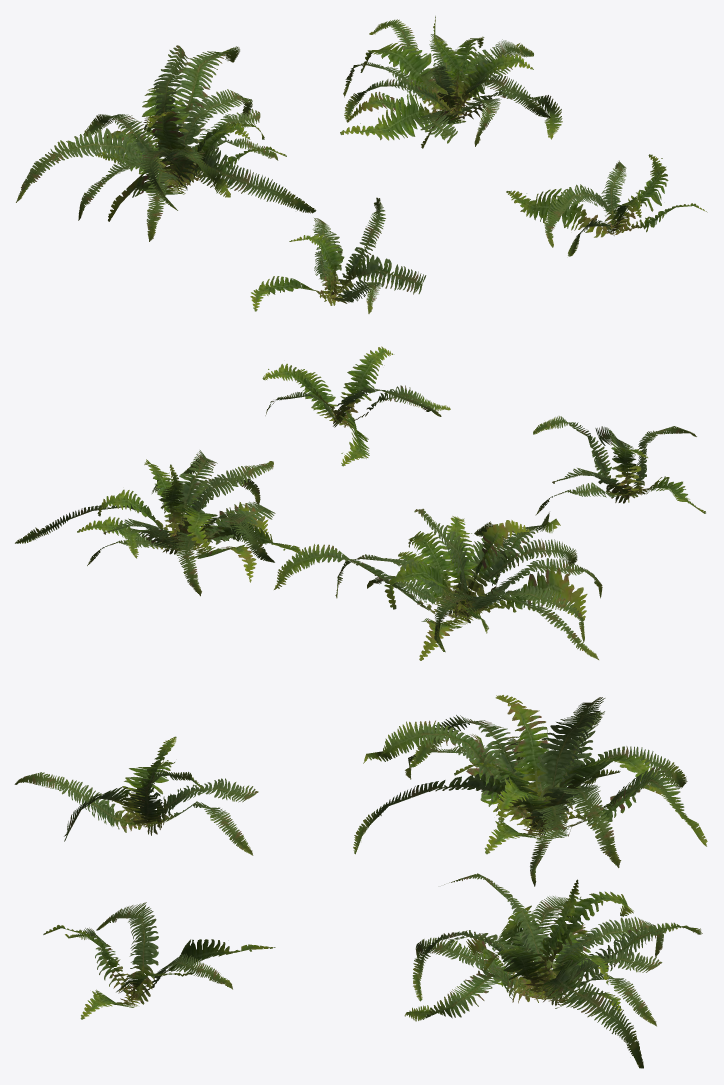
File: fern_02.glb
The picture shows the model from 3 angles, top to bottom: view 1: azimuth 30°, elevation 25°; view 2: azimuth 150°, elevation 25°; view 3: azimuth 270°, elevation 25°; orthographic projection. The views are drawn at different scales.
Visible parts, largest first — view 1: fern_02_b; view 2: fern_02_b; view 3: fern_02_b.
Part boxes in pixels (x1=…): fern_02_b: x1=16, y1=16, x2=707, y2=313; fern_02_b: x1=15, y1=346, x2=705, y2=660; fern_02_b: x1=14, y1=695, x2=707, y2=1068.
Size of the model in its own units: 1.97 by 0.4277 by 1.72.
1 material, 1 textured.
